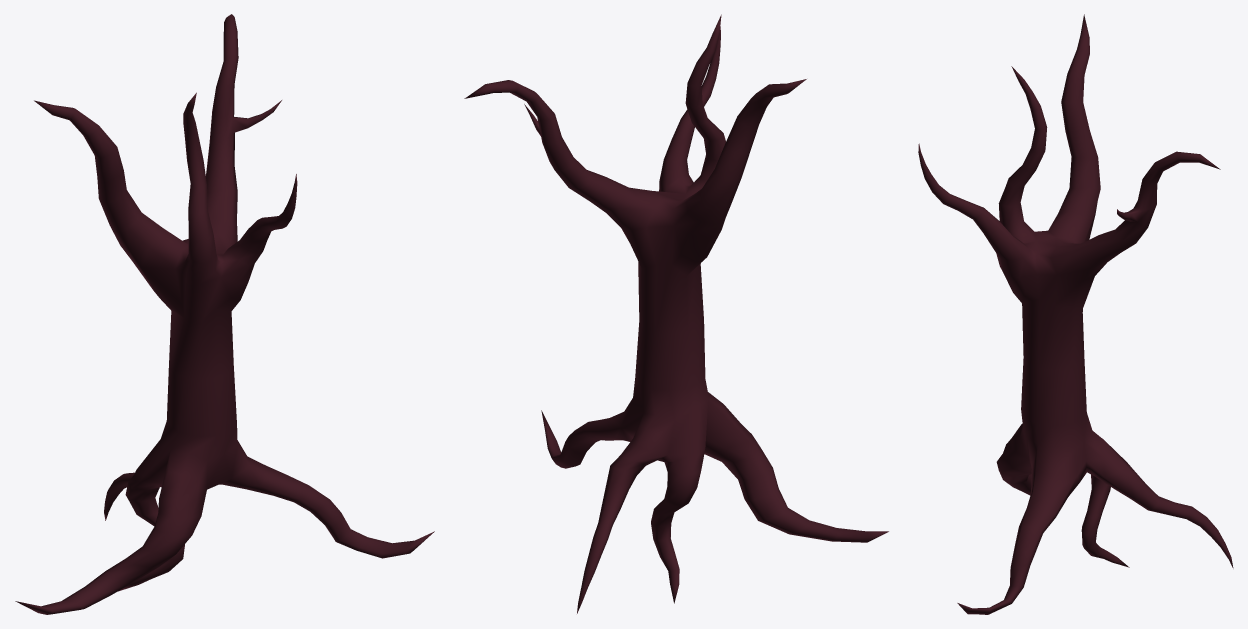
The model's file is tree-test.obj.
3 views of the same model, side by side, from view 1: azimuth 30°, elevation 25°; view 2: azimuth 150°, elevation 25°; view 3: azimuth 270°, elevation 25° (orthographic). The views are drawn at different scales.
Visible parts, largest first — view 1: Cylinder001; view 2: Cylinder001; view 3: Cylinder001.
Boxes of the visible parts, x1=… form: Cylinder001: x1=15, y1=14, x2=434, y2=614; Cylinder001: x1=464, y1=14, x2=888, y2=613; Cylinder001: x1=918, y1=14, x2=1233, y2=614.
Size of the model in its own units: 728 by 978 by 548.
